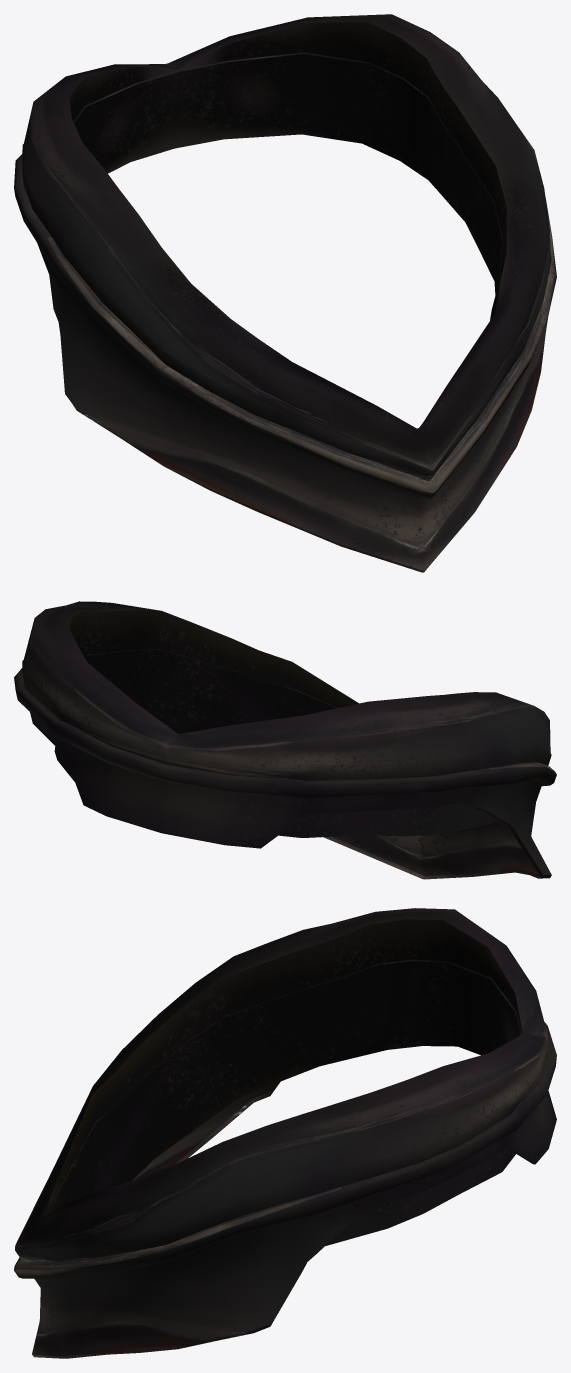
The model's file is sm_human_scortched_chest_add.gltf.
3 views of the same model, one above another, from view 1: azimuth 30°, elevation 25°; view 2: azimuth 150°, elevation 25°; view 3: azimuth 270°, elevation 25° (orthographic).
Visible parts, largest first — view 1: sm_human_scortched_chest_add; view 2: sm_human_scortched_chest_add; view 3: sm_human_scortched_chest_add.
Boxes of the visible parts, x1=… form: sm_human_scortched_chest_add: x1=14, y1=14, x2=556, y2=572; sm_human_scortched_chest_add: x1=14, y1=601, x2=556, y2=879; sm_human_scortched_chest_add: x1=14, y1=908, x2=556, y2=1358.
Size of the model in its own units: 25.87 by 18.81 by 25.46.
Materials: 1 (1 with a texture image).
